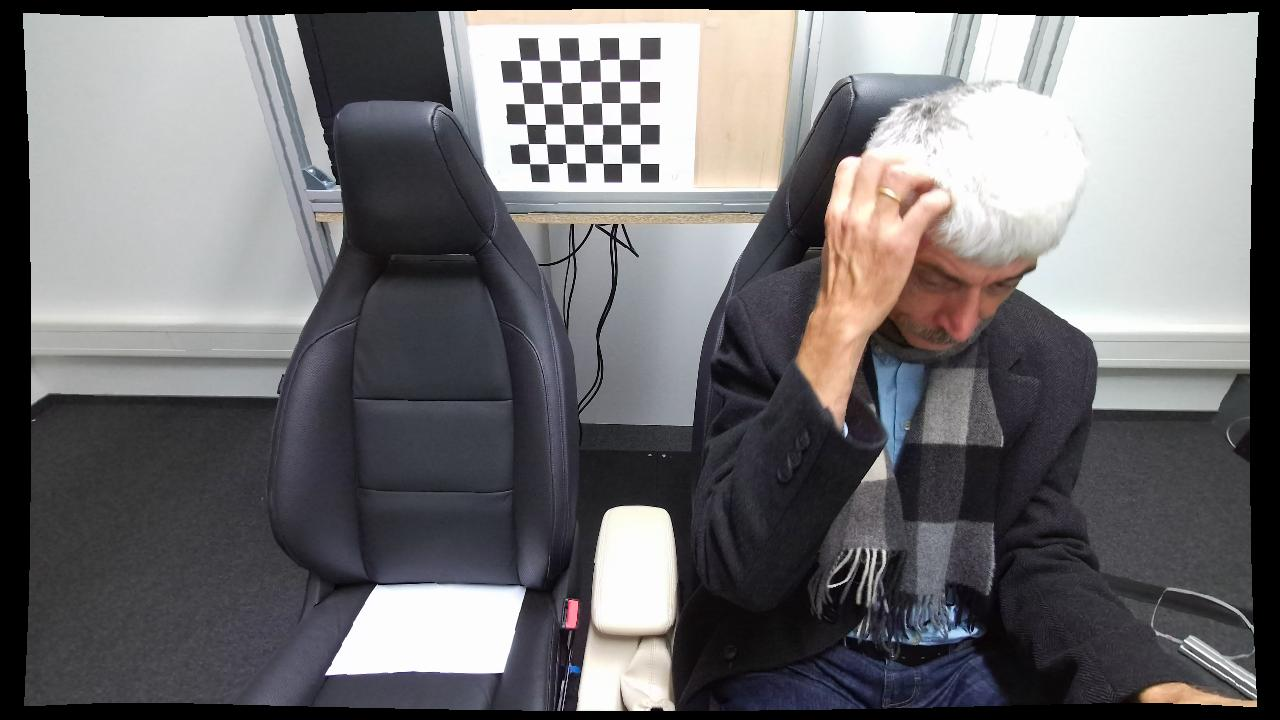Distracted: (690, 72, 1145, 705)
